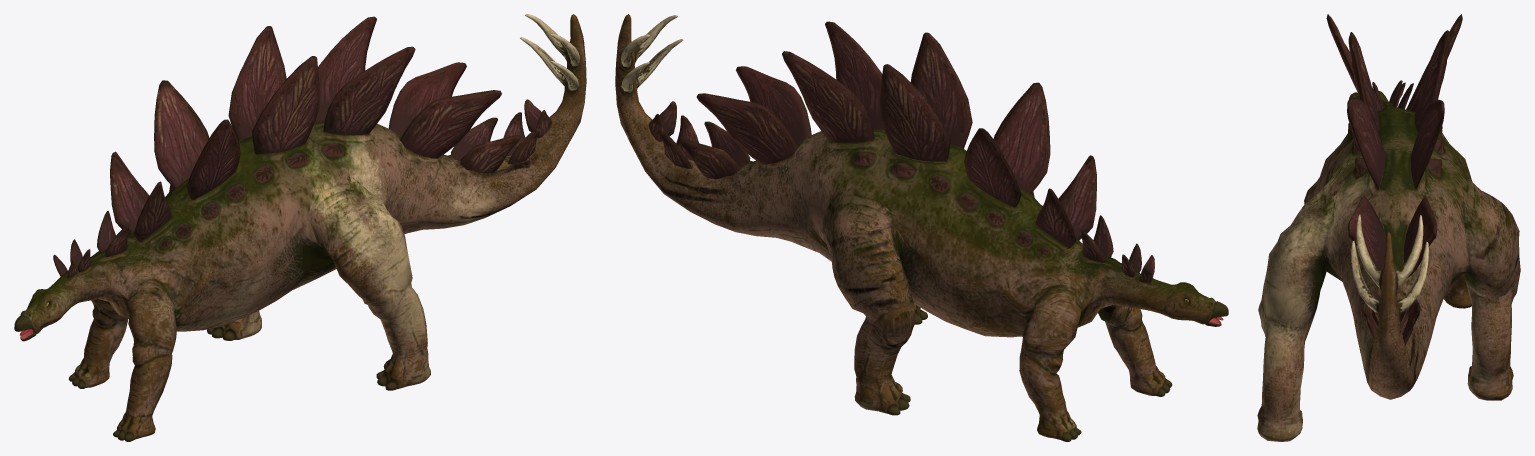
File: stegosaurus.glb
3 renders of one model, left to right at view 1: azimuth 30°, elevation 25°; view 2: azimuth 150°, elevation 25°; view 3: azimuth 270°, elevation 25°, orthographic. The views are drawn at different scales.
Visible parts, largest first — view 1: Object_2; view 2: Object_2; view 3: Object_2.
Part boxes in pixels (box(x1,y1,x2,y2)): Object_2: box(14, 14, 586, 441); Object_2: box(615, 14, 1228, 441); Object_2: box(1257, 14, 1520, 441).
Size of the model in its own units: 3861 by 2009 by 1303.
Materials: 1 (1 with a texture image).
